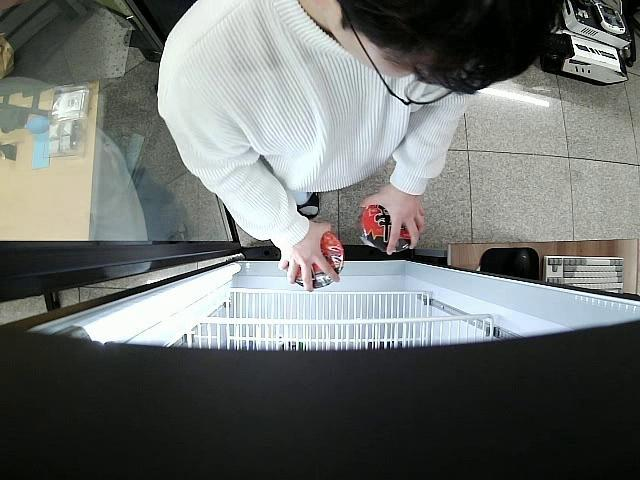01_ShinRamen_L: (287, 232, 344, 289), (360, 204, 414, 252)
